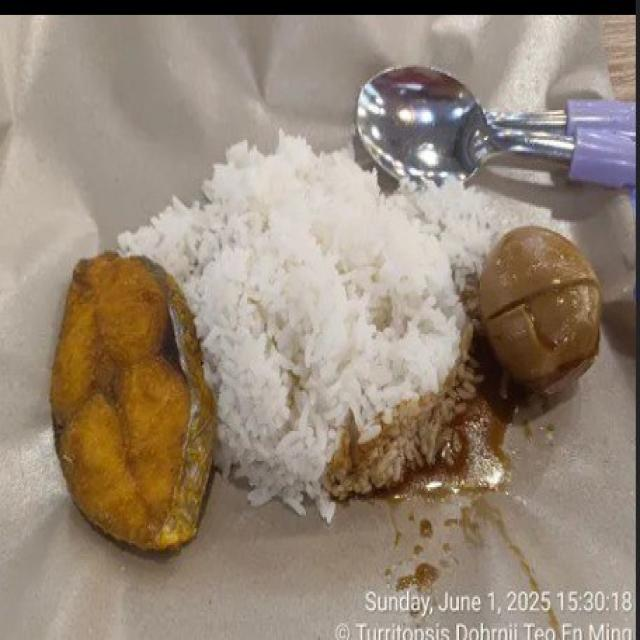Egg: (477, 226, 599, 386)
Fish: (51, 252, 215, 550)
Rice: (121, 131, 559, 521)
